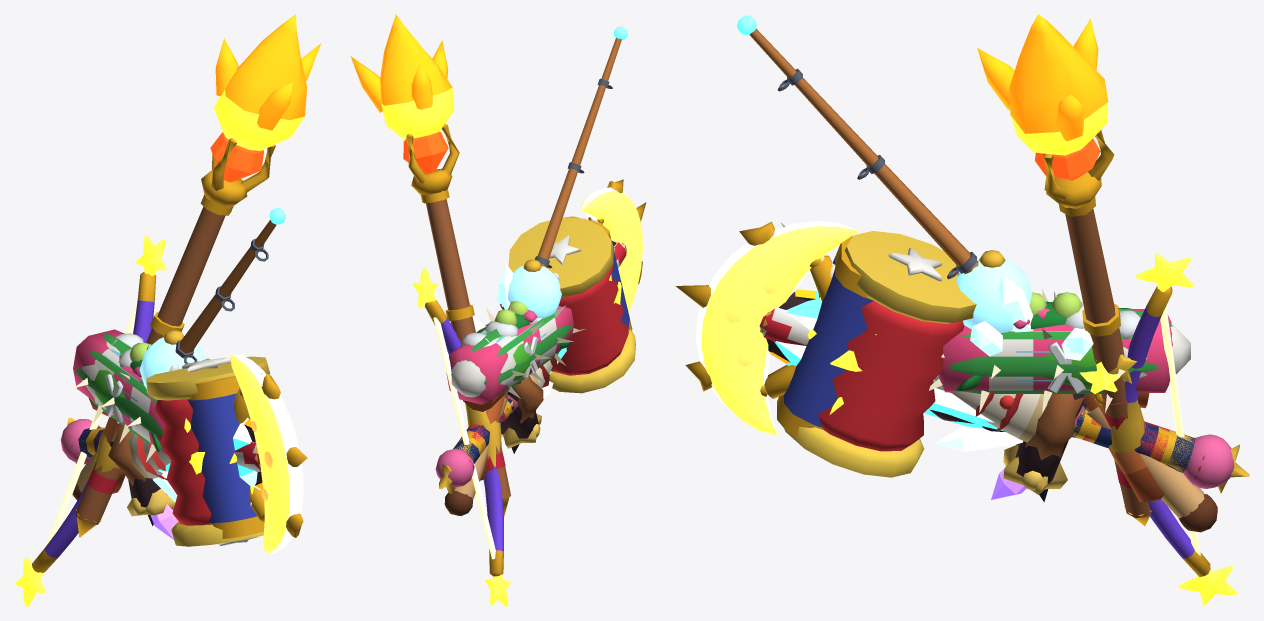
File: gear-weapons.glb
The picture shows the model from 3 angles, left to right: view 1: azimuth 30°, elevation 25°; view 2: azimuth 150°, elevation 25°; view 3: azimuth 270°, elevation 25°; orthographic projection. The views are drawn at different scales.
Parts seen in each view (by area): view 1: staff_fire@hand-right, toy_hammer@hand-right, hammer_thunder@hand-right, scythe_moon@hand-right, bow_star@hand-right, gun_bubble@hand-right, gun_spike@hand-right, rod@hand-right, sword_tusk@hand-right, sword_candy@hand-right, trident@hand-right, sword_crystal@hand-right (+3 smaller); view 2: staff_fire@hand-right, toy_hammer@hand-right, bow_star@hand-right, gun_bubble@hand-right, scythe_moon@hand-right, rod@hand-right, gun_spike@hand-right, sword_candy@hand-right, gun_ice@hand-right, hammer_thunder@hand-right, sword_tusk@hand-right, blaster_rainbow@hand-right (+2 smaller); view 3: toy_hammer@hand-right, staff_fire@hand-right, scythe_moon@hand-right, hammer_thunder@hand-right, bow_star@hand-right, gun_bubble@hand-right, rod@hand-right, gun_spike@hand-right, sword_tusk@hand-right, sword_candy@hand-right, sword_crystal@hand-right, gun_ice@hand-right (+4 smaller).
Boxes of the visible parts, x1=… form: staff_fire@hand-right: x1=75, y1=14, x2=321, y2=537; toy_hammer@hand-right: x1=78, y1=356, x2=270, y2=546; hammer_thunder@hand-right: x1=78, y1=367, x2=264, y2=538; scythe_moon@hand-right: x1=67, y1=354, x2=303, y2=553; bow_star@hand-right: x1=14, y1=235, x2=166, y2=606; gun_bubble@hand-right: x1=73, y1=329, x2=205, y2=454; gun_spike@hand-right: x1=74, y1=333, x2=163, y2=493; rod@hand-right: x1=72, y1=220, x2=276, y2=500; sword_tusk@hand-right: x1=68, y1=372, x2=263, y2=486; sword_candy@hand-right: x1=60, y1=419, x2=260, y2=516; trident@hand-right: x1=233, y1=374, x2=307, y2=537; sword_crystal@hand-right: x1=150, y1=418, x2=260, y2=539; staff_fire@hand-right: x1=350, y1=14, x2=510, y2=516; toy_hammer@hand-right: x1=453, y1=217, x2=635, y2=463; bow_star@hand-right: x1=413, y1=268, x2=510, y2=606; gun_bubble@hand-right: x1=446, y1=259, x2=573, y2=404; scythe_moon@hand-right: x1=439, y1=187, x2=642, y2=494; rod@hand-right: x1=444, y1=38, x2=621, y2=515; gun_spike@hand-right: x1=448, y1=304, x2=585, y2=480; sword_candy@hand-right: x1=435, y1=242, x2=626, y2=487; gun_ice@hand-right: x1=462, y1=263, x2=556, y2=378; hammer_thunder@hand-right: x1=453, y1=216, x2=632, y2=463; sword_tusk@hand-right: x1=469, y1=184, x2=608, y2=469; blaster_rainbow@hand-right: x1=451, y1=337, x2=515, y2=397; toy_hammer@hand-right: x1=784, y1=231, x2=1194, y2=477; staff_fire@hand-right: x1=977, y1=14, x2=1152, y2=526; scythe_moon@hand-right: x1=696, y1=221, x2=1249, y2=493; hammer_thunder@hand-right: x1=777, y1=235, x2=1194, y2=472; bow_star@hand-right: x1=1079, y1=252, x2=1237, y2=606; gun_bubble@hand-right: x1=939, y1=250, x2=1172, y2=392; rod@hand-right: x1=749, y1=28, x2=1217, y2=532; gun_spike@hand-right: x1=929, y1=288, x2=1172, y2=502; sword_tusk@hand-right: x1=780, y1=222, x2=1204, y2=479; sword_candy@hand-right: x1=759, y1=307, x2=1234, y2=494; sword_crystal@hand-right: x1=774, y1=290, x2=1026, y2=499; gun_ice@hand-right: x1=970, y1=275, x2=1140, y2=393.
Size of the model in its own units: 0.8427 by 1.99 by 1.46.
